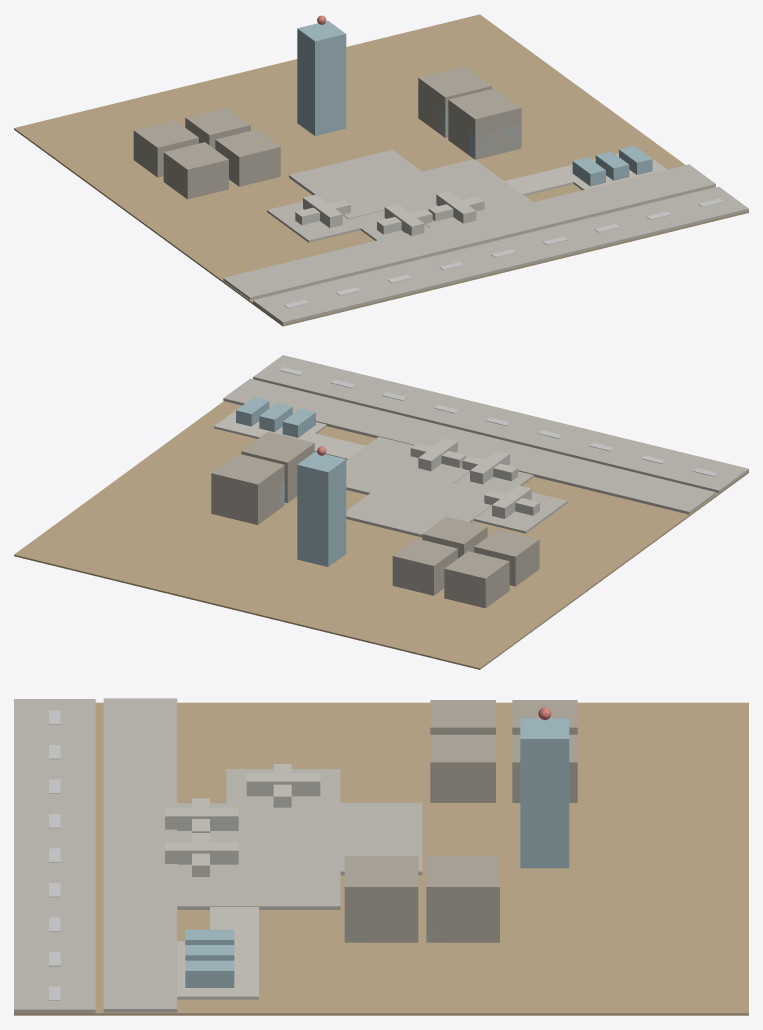
The model's file is stage_15.glb.
3 renders of one model, top to bottom at view 1: azimuth 30°, elevation 25°; view 2: azimuth 150°, elevation 25°; view 3: azimuth 270°, elevation 25°, orthographic. The views are drawn at different scales.
Parts seen in each view (by area): view 1: geometry_0; view 2: geometry_0; view 3: geometry_0.
Part boxes in pixels (bbox=[...]): geometry_0: bbox=[14, 14, 748, 326]; geometry_0: bbox=[14, 355, 748, 669]; geometry_0: bbox=[14, 698, 748, 1015].
Size of the model in its own units: 9 by 2.06 by 9.
